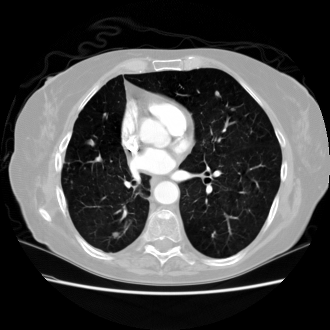nodule: (214, 91, 220, 97)
